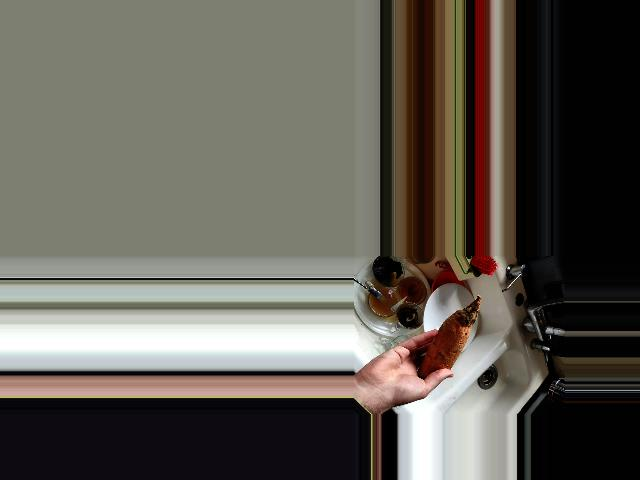sweet_potato: (413, 294, 481, 386)
